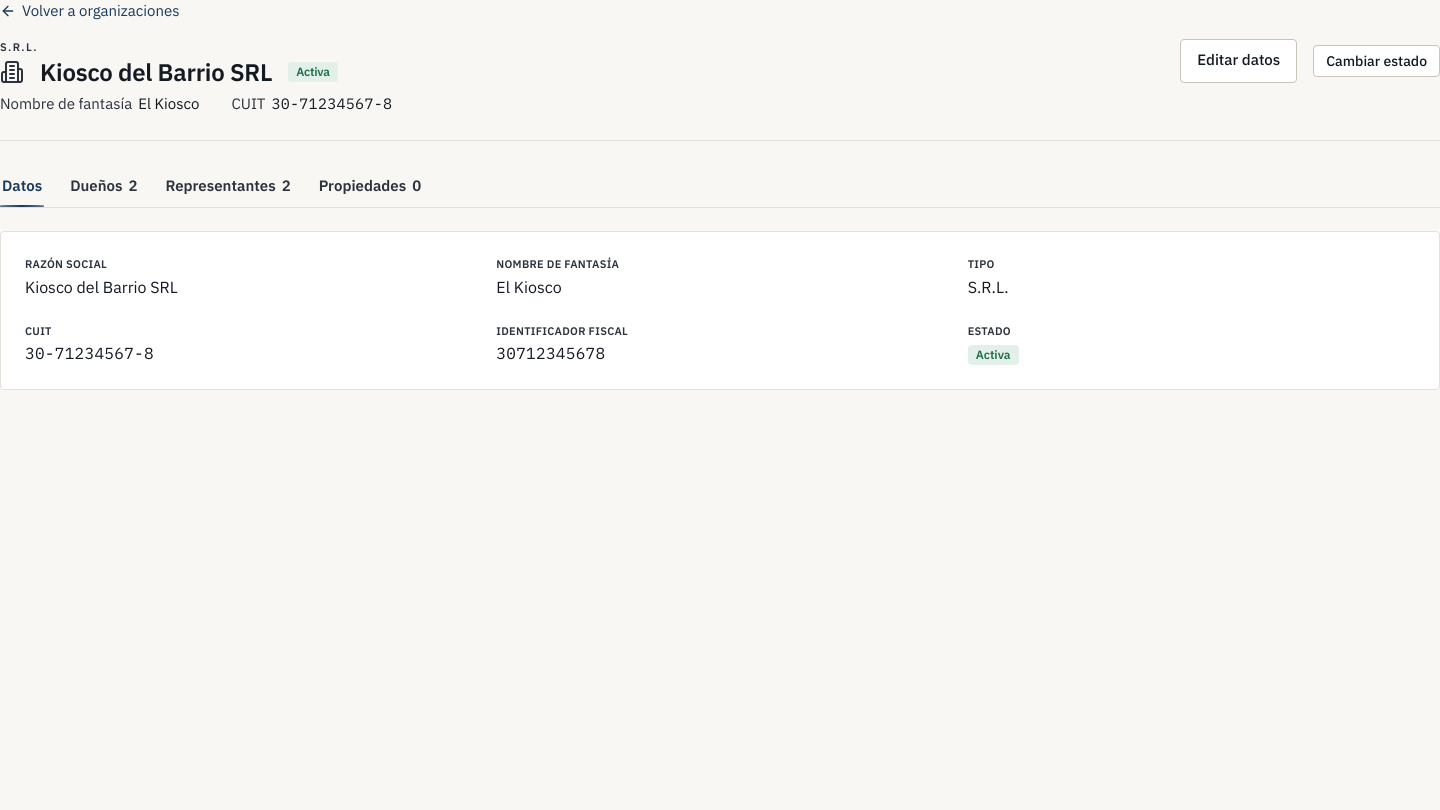
Test: dueños › si el dueño no tiene porcentaje, no pregunta a quién transferirle
What coordinates should you click on to do the following:
click the tab "Dueños2"
I would click on:
 (104, 186)
Its box is [68,164,139,207].
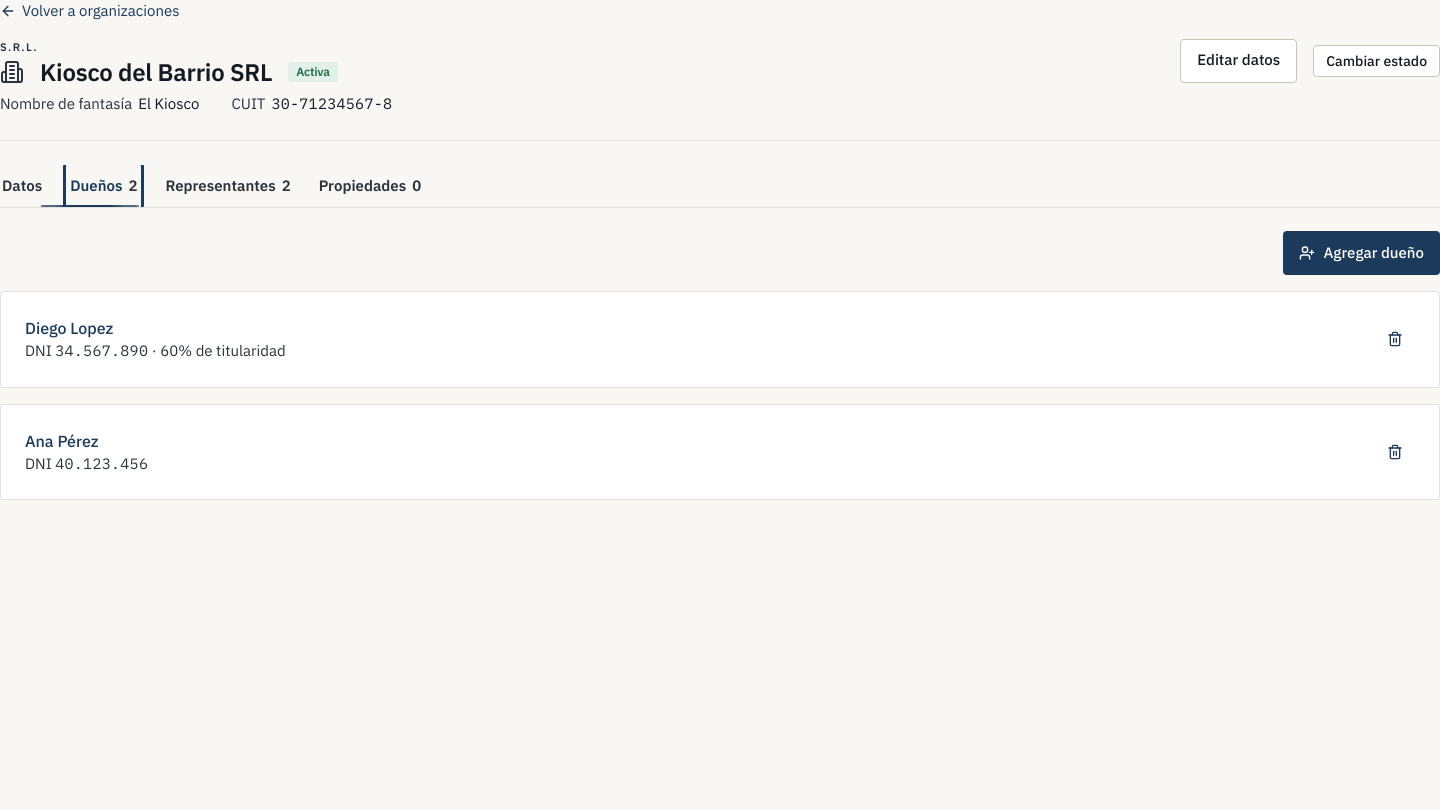
What coordinates should you click on to do the following:
click the button named "quitar a ana"
I would click on:
 (1395, 452)
Its box is [1375,436,1415,468].
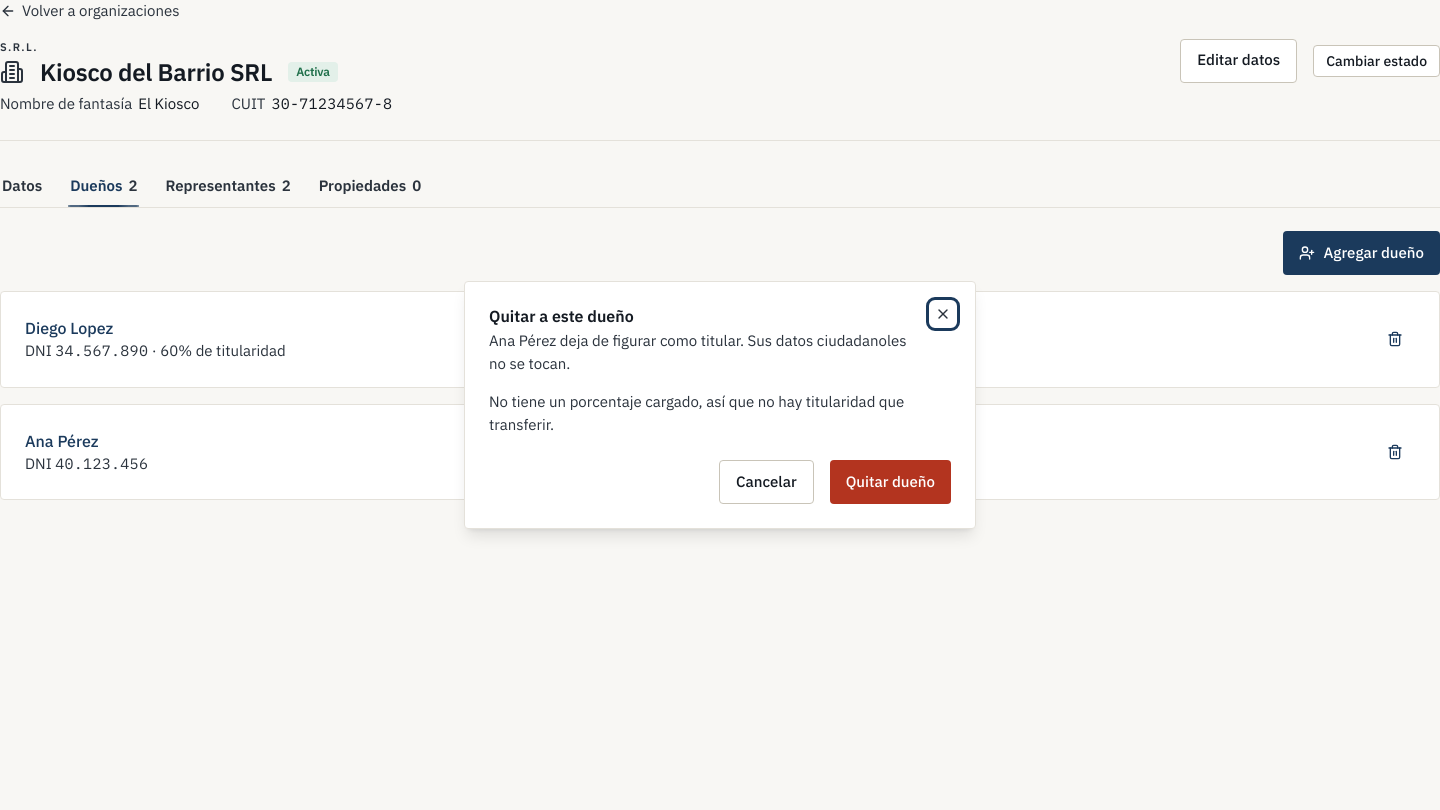
Expected: the text "no hay titularidad que transferir" is shown, [489,392,904,434]
